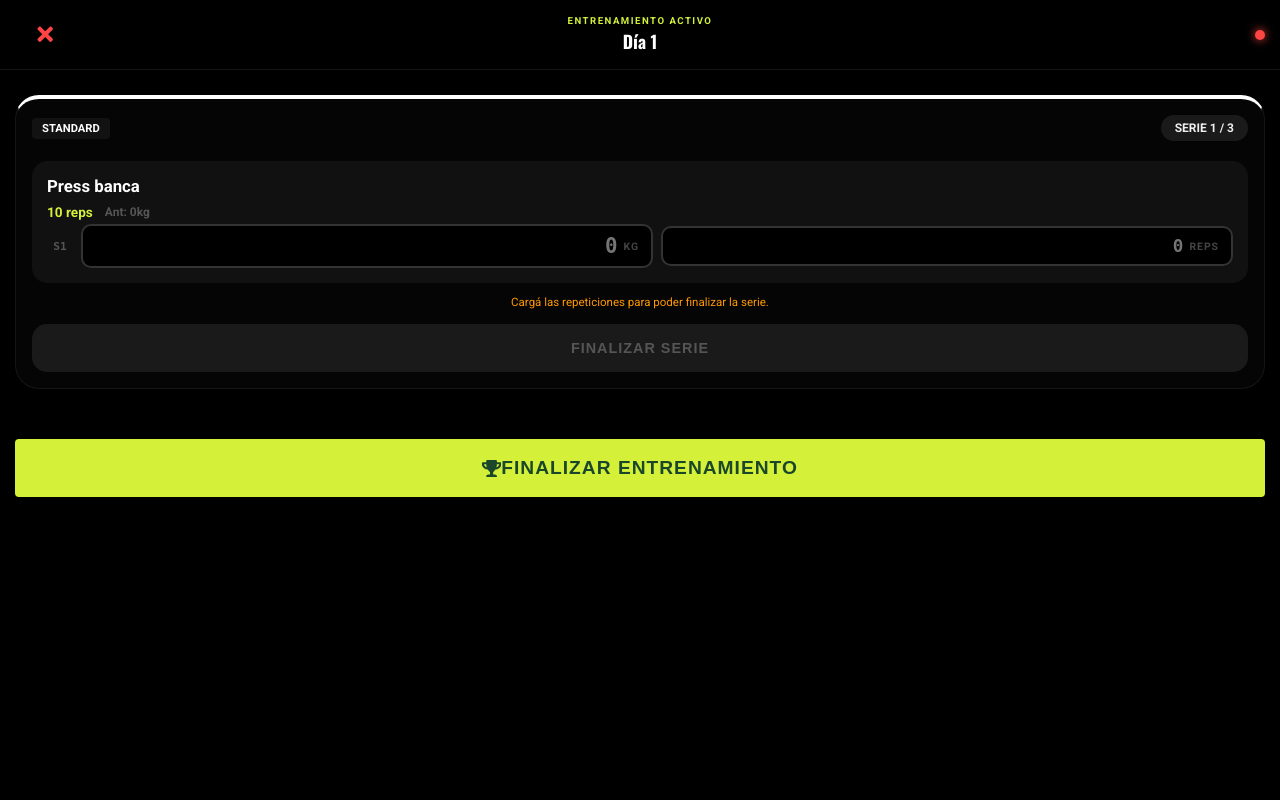
Scenario: WorkoutView — completar series/vueltas › al finalizar una serie, avanza el contador y dispara el timer de descanso
This screenshot has width=1280, height=800.
Type "10" into the number field named "Repeticiones serie" at [929, 246], box [675, 236, 1183, 256]
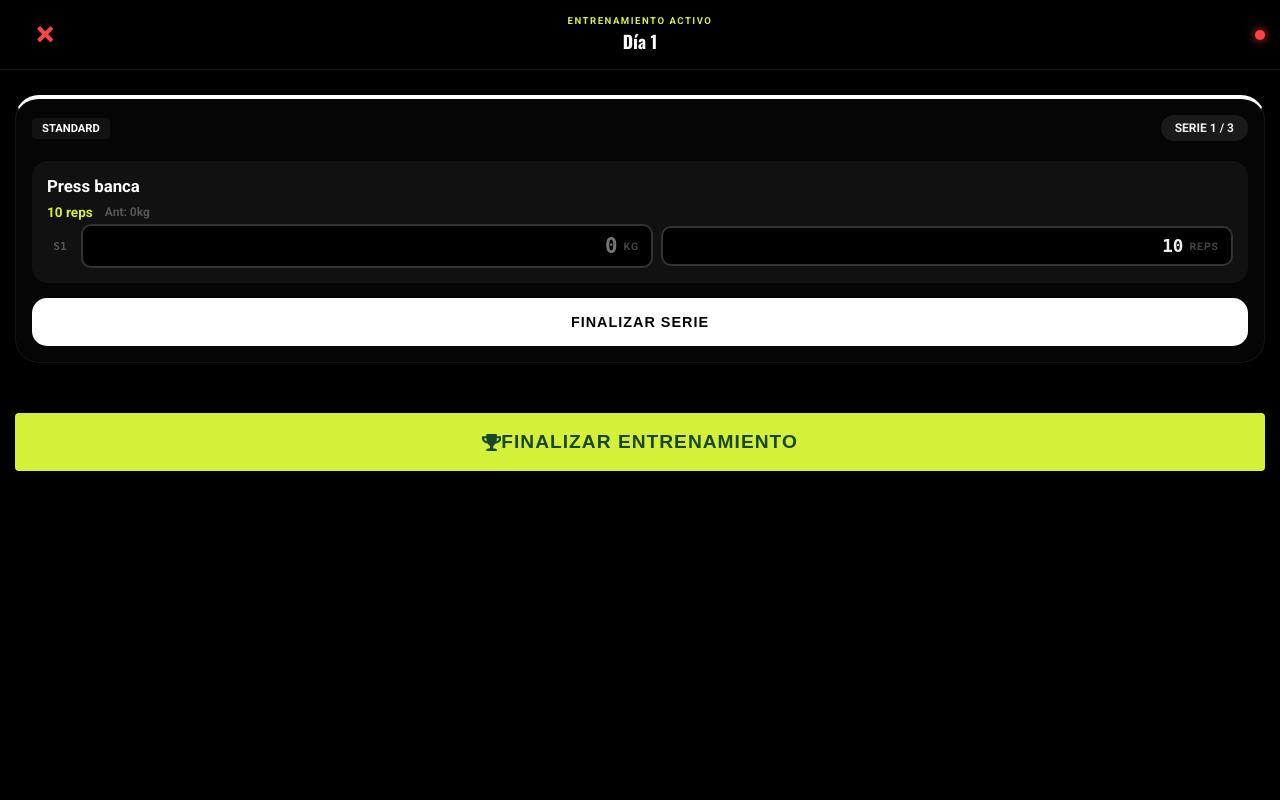
Click the button "FINALIZAR SERIE" at [640, 322], box [32, 298, 1248, 346]
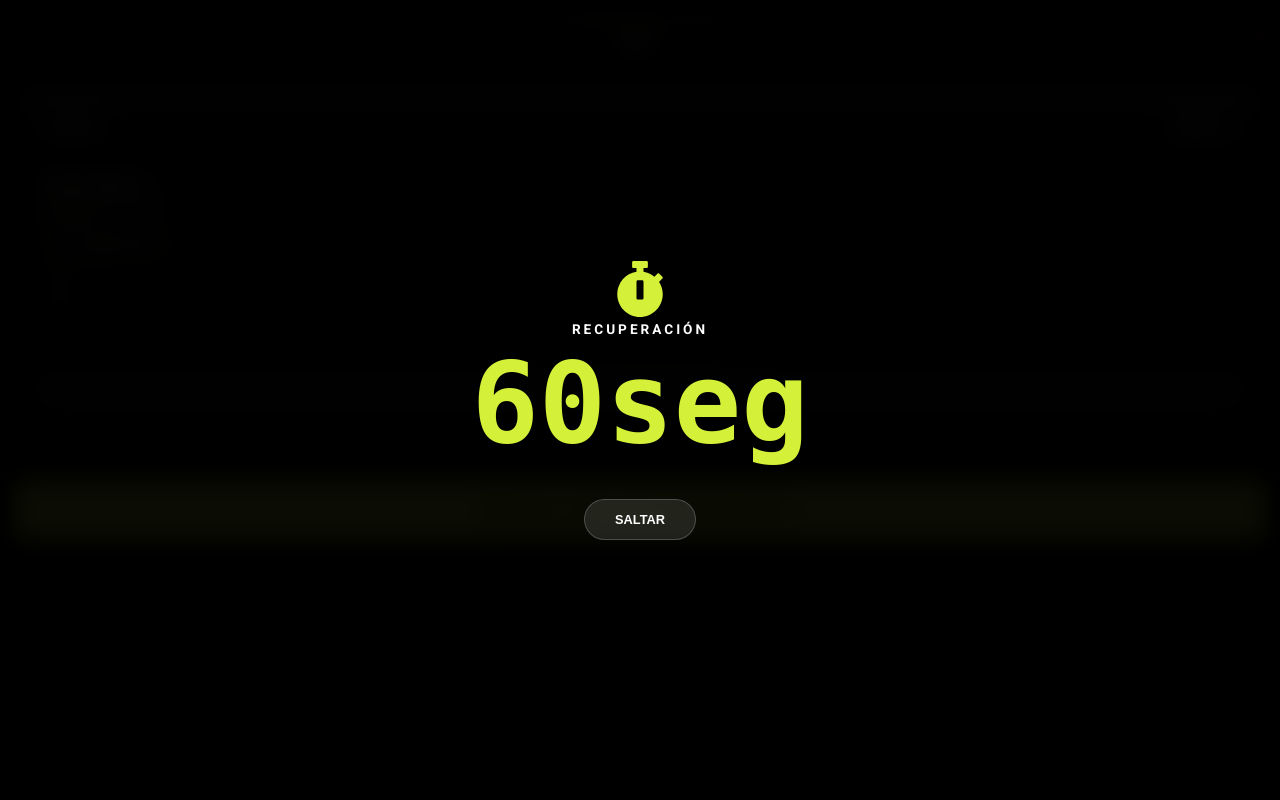
Now the text "RECUPERACIÓN" is shown, box [572, 320, 708, 336]
Now the text "60seg" is shown, box [471, 346, 809, 458]
